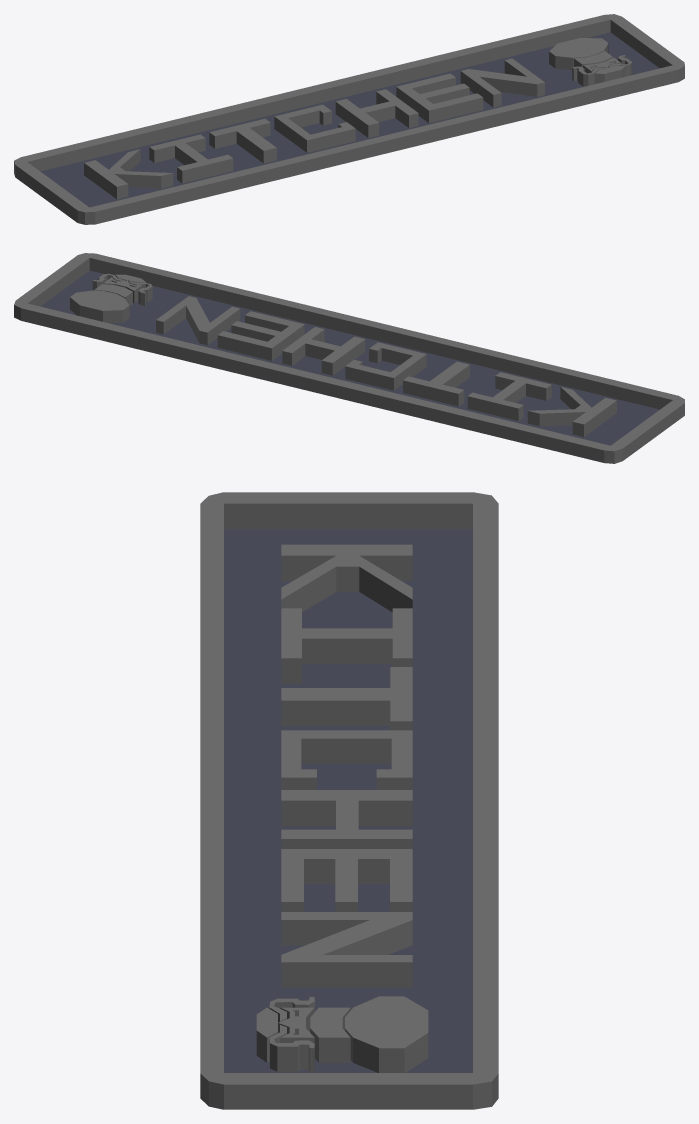
Rendered from mdlKitchenSign.fbx.
The picture shows the model from 3 angles, top to bottom: view 1: azimuth 30°, elevation 25°; view 2: azimuth 150°, elevation 25°; view 3: azimuth 270°, elevation 25°; orthographic projection. The views are drawn at different scales.
Parts seen in each view (by area): view 1: KitchenSign; view 2: KitchenSign; view 3: KitchenSign.
Boxes of the visible parts, bbox=[...] form: KitchenSign: bbox=[14, 14, 684, 224]; KitchenSign: bbox=[14, 253, 684, 463]; KitchenSign: bbox=[200, 492, 498, 1109].
Bounding box in the file's own units: 5.52 × 0.1099 × 1.18.
Materials: 1 (1 with a texture image).
